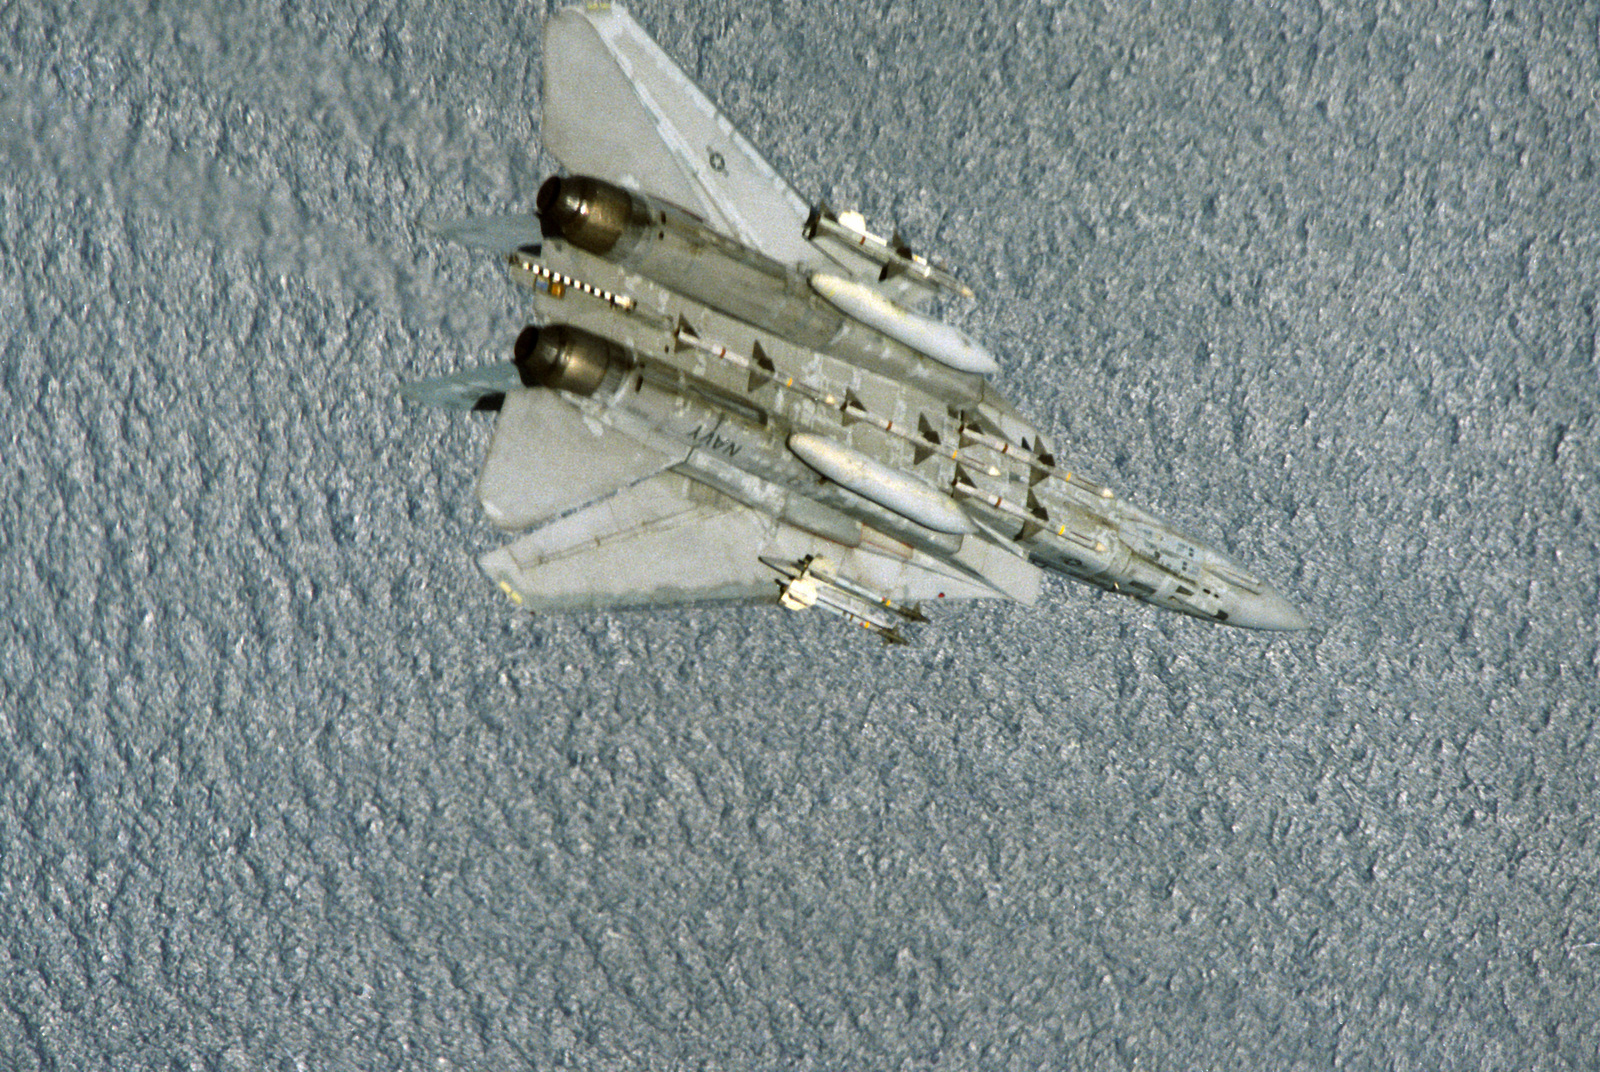F14: (391, 1, 1325, 647)
